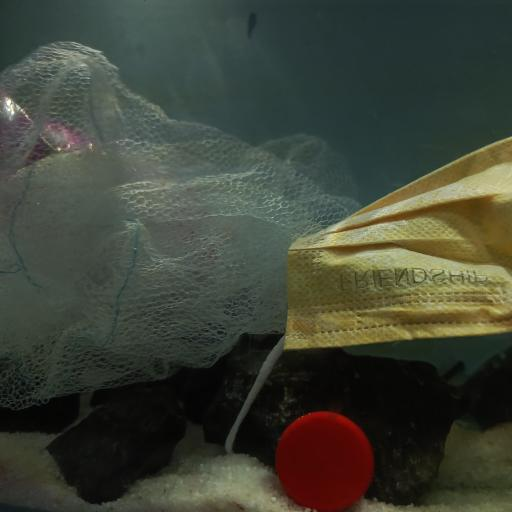bottle_cap: (272, 405, 377, 512)
mask: (223, 133, 512, 447)
net: (0, 44, 363, 408)
plastic_bottle: (0, 86, 88, 172)
